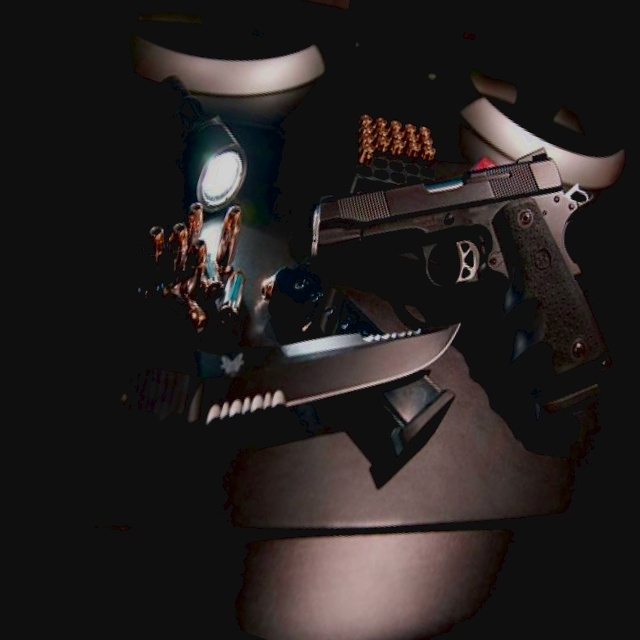gun: (0, 180, 473, 588)
